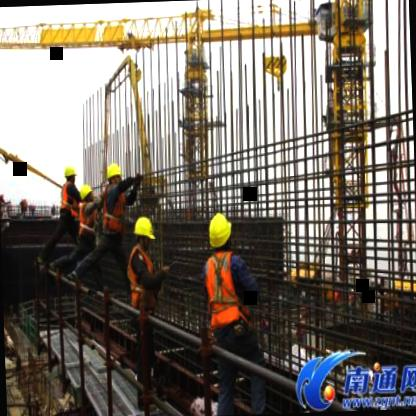helmet: (206, 209, 235, 258), (132, 212, 155, 254), (104, 164, 125, 192), (62, 162, 79, 190), (78, 182, 96, 206)
